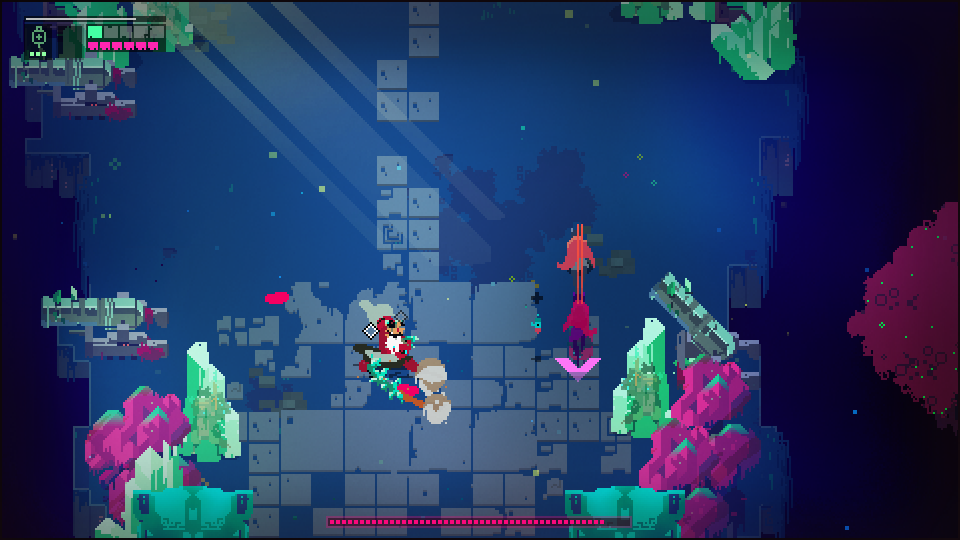hanged_man: (352, 296, 435, 404)
player: (557, 227, 598, 281)
